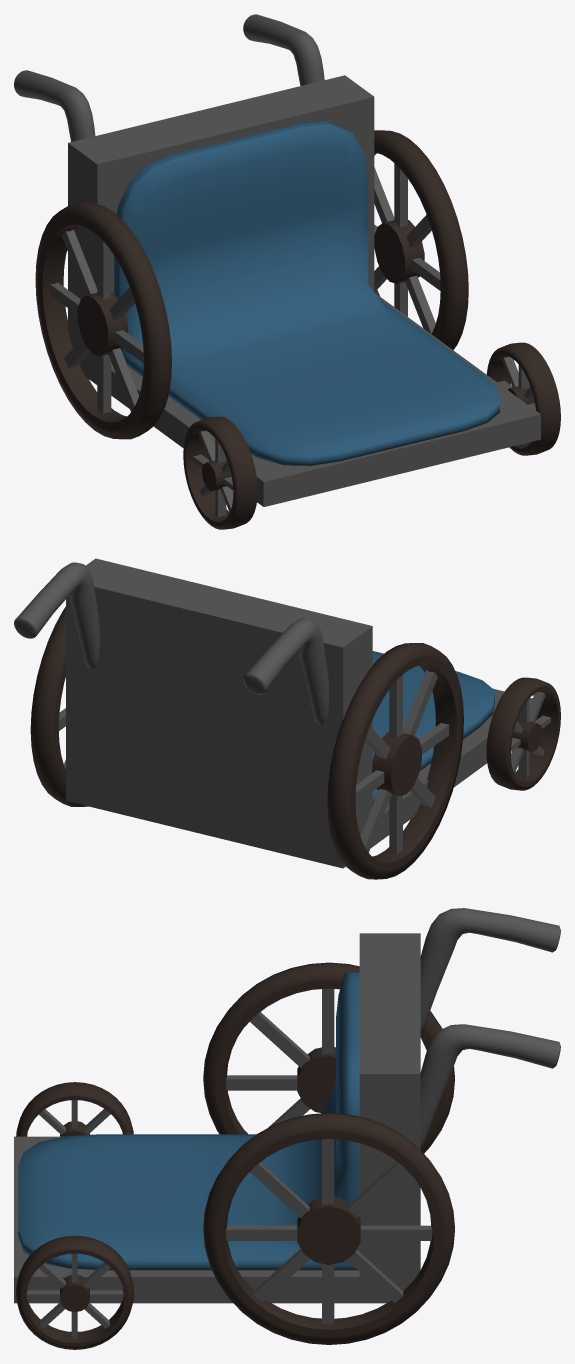
Rendered from Wheelchair.fbx.
3 views of the same model, one above another, from view 1: azimuth 30°, elevation 25°; view 2: azimuth 150°, elevation 25°; view 3: azimuth 270°, elevation 25° (orthographic). The views are drawn at different scales.
Visible parts, largest first — view 1: Wheelchair; view 2: Wheelchair; view 3: Wheelchair.
Boxes of the visible parts, left/top/right/bottom form: Wheelchair: left=14, top=14, right=560, bottom=529; Wheelchair: left=14, top=558, right=560, bottom=879; Wheelchair: left=14, top=908, right=560, bottom=1349.
Bounding box in the file's own units: 1.09 × 0.9283 × 1.52.
